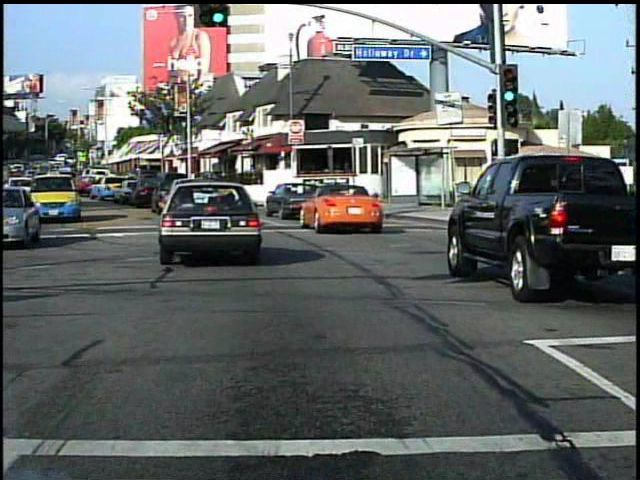person: (581, 188, 604, 251)
